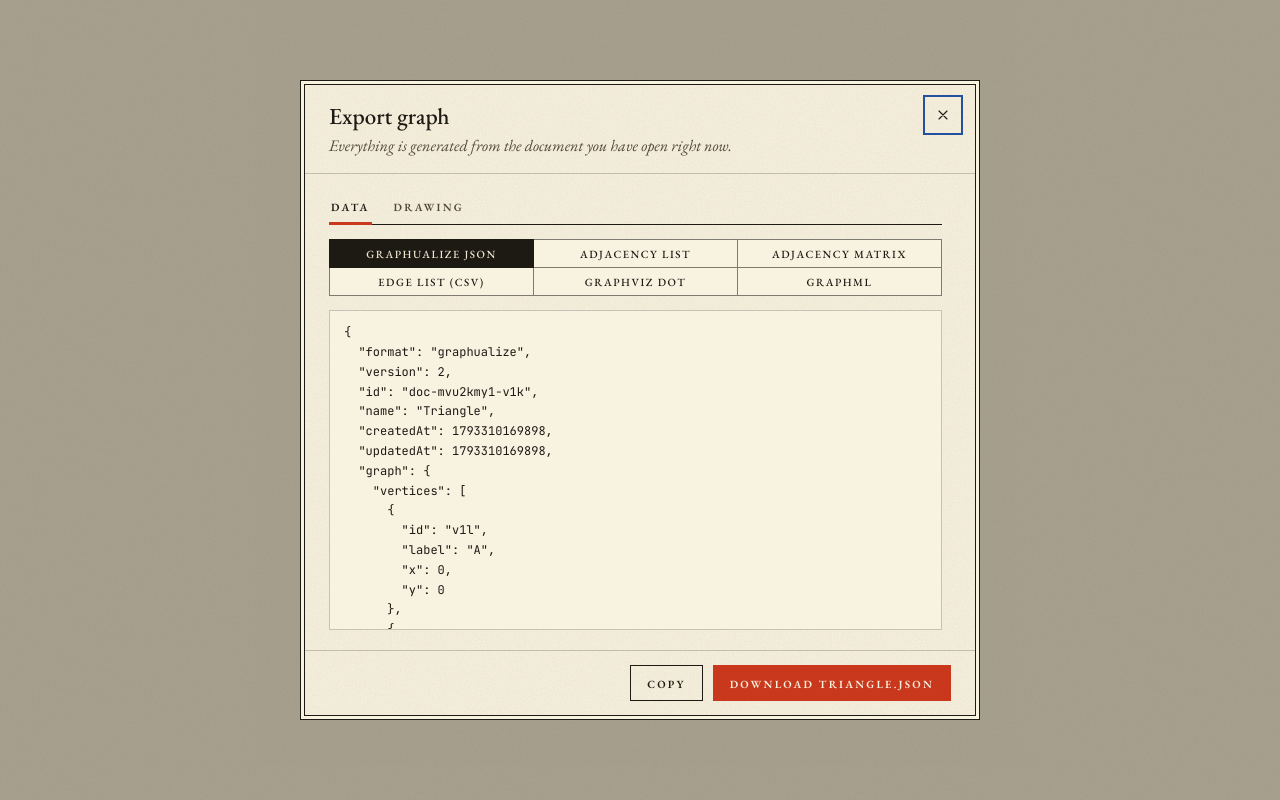
Scenario: Export dialog, TikZ › still offers SVG and PNG first
The image size is (1280, 800).
Click the button "Drawing" at (429, 208), box [392,192,466,225]
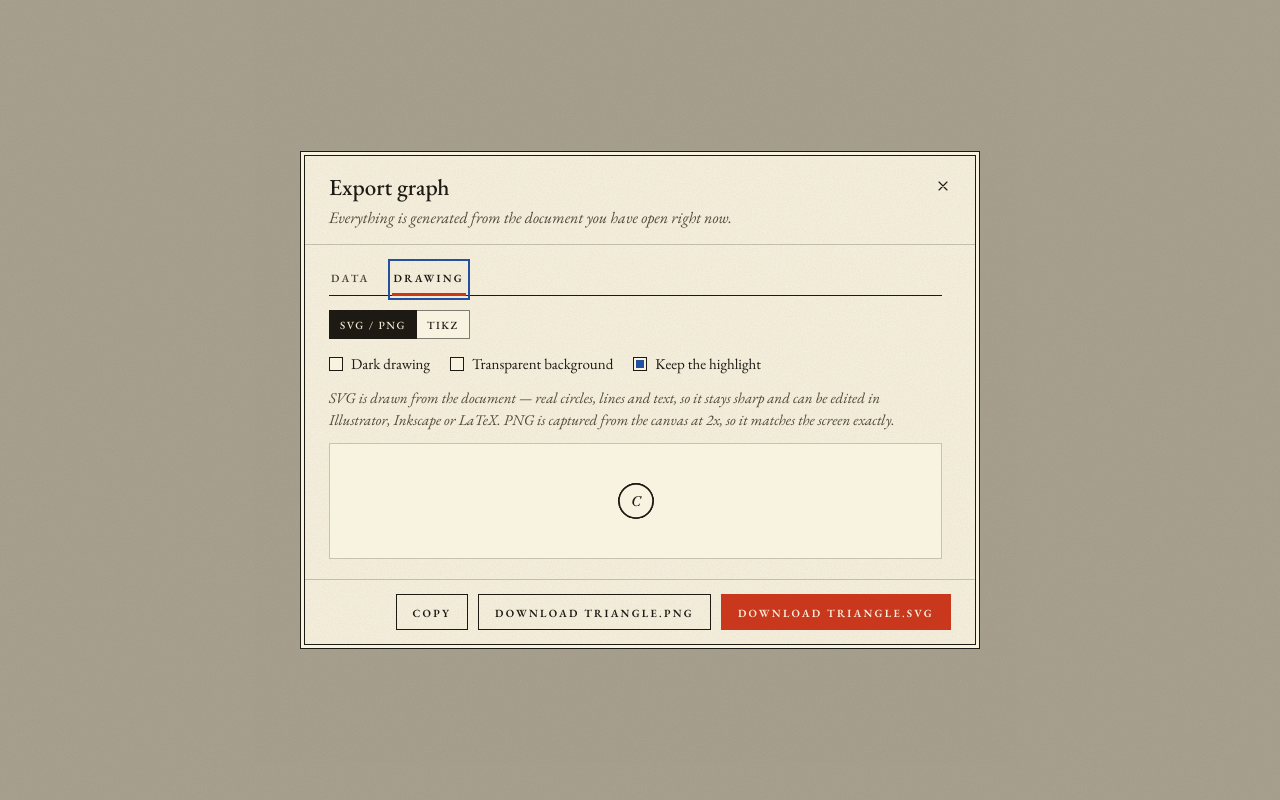
Expected: the button "Download triangle.svg" is shown, [721,594,951,630]
Expected: the button "Download triangle.png" is shown, [478,594,711,630]
